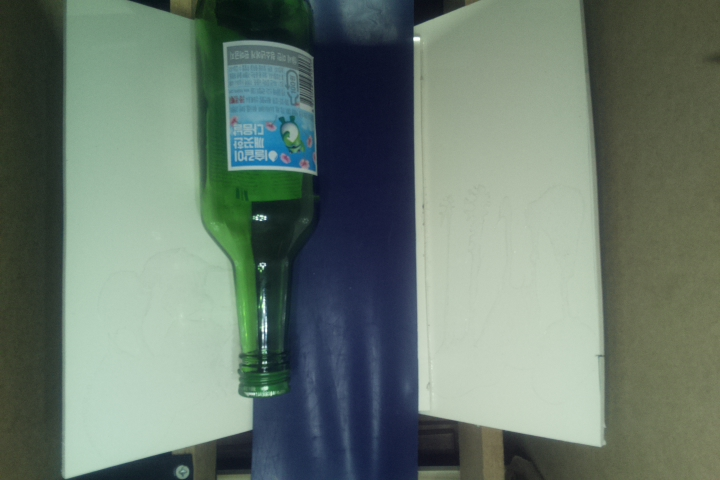soju: (193, 1, 325, 401)
